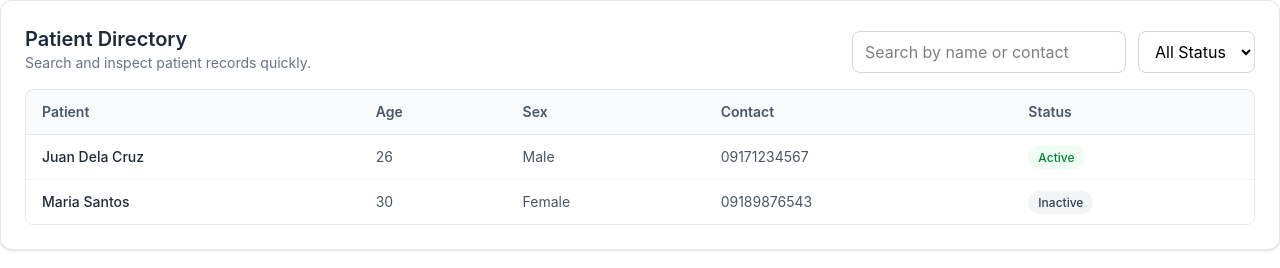
Test: PatientList Component › displays empty state message when search yields no matches
Expected: the text "Juan Dela Cruz" is shown, [26,134,360,180]
Type "NonExistentName" into the field named "search patients" at [989, 52], box [852,31,1126,73]
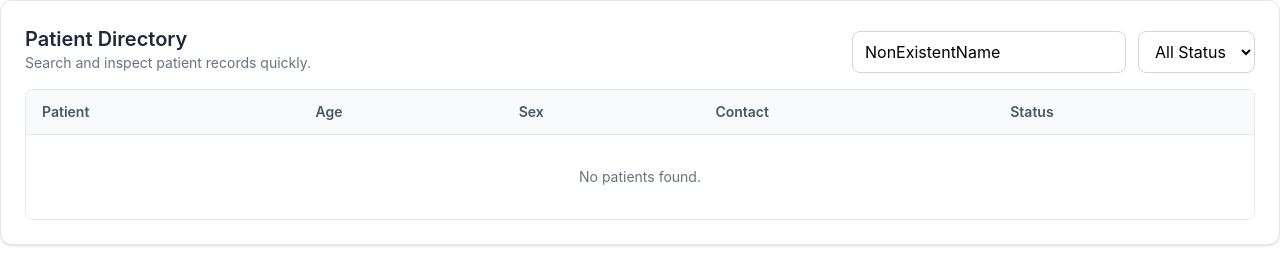
Expected: the text "No patients found." is shown, [26,134,1254,219]
